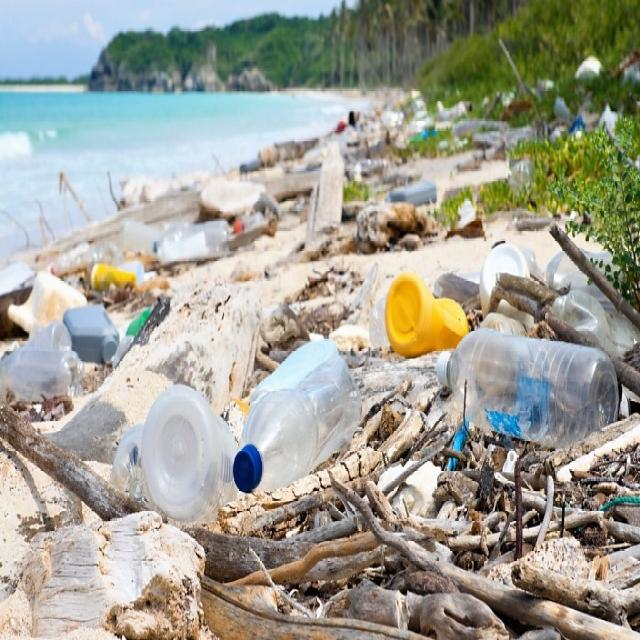plastic_bottle: (436, 326, 620, 450)
